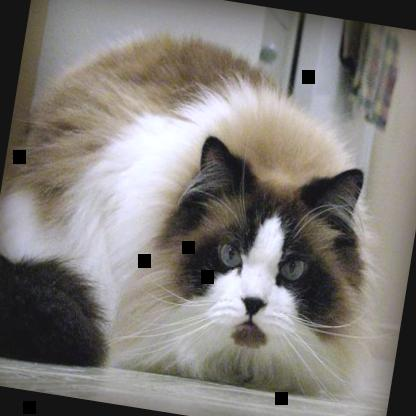cat: (0, 12, 407, 414)
